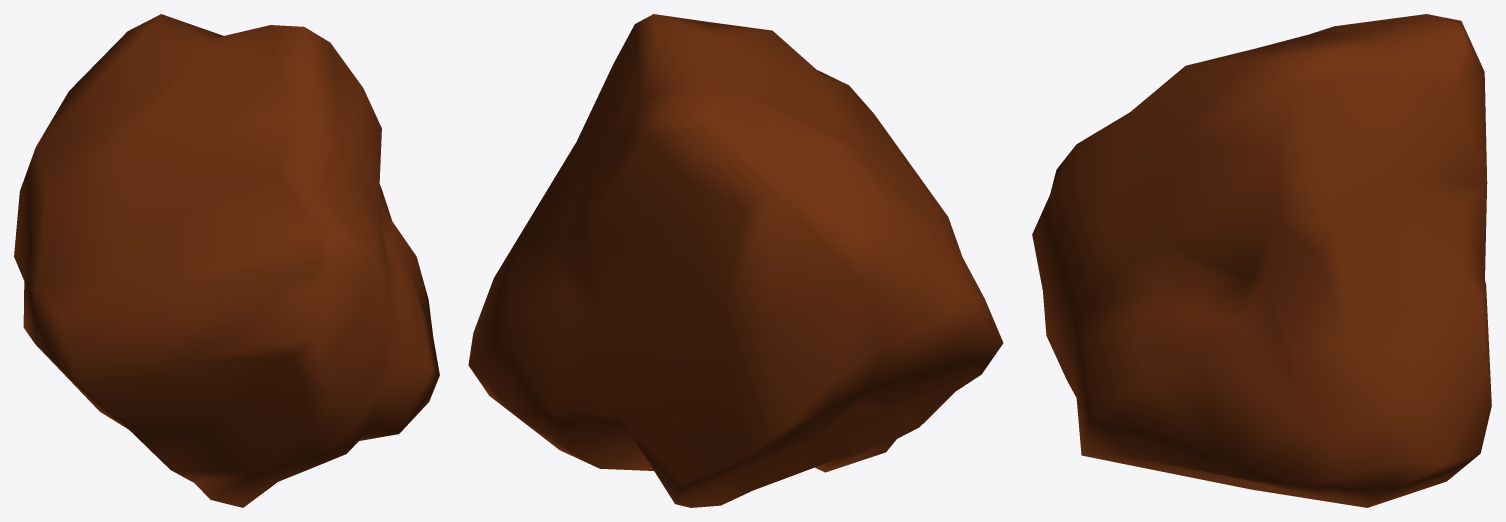
The model's file is FM_M_Well_Stone_01.fbx.
3 views of the same model, side by side, from view 1: azimuth 30°, elevation 25°; view 2: azimuth 150°, elevation 25°; view 3: azimuth 270°, elevation 25° (orthographic). The views are drawn at different scales.
Parts seen in each view (by area): view 1: FM_M_Well_Stone_01; view 2: FM_M_Well_Stone_01; view 3: FM_M_Well_Stone_01.
Part boxes in pixels (box(x1,y1,x2,y2)): FM_M_Well_Stone_01: box(14, 14, 439, 507); FM_M_Well_Stone_01: box(468, 14, 1003, 507); FM_M_Well_Stone_01: box(1032, 14, 1491, 507).
Size of the model in its own units: 0.3523 by 0.333 by 0.2883.
